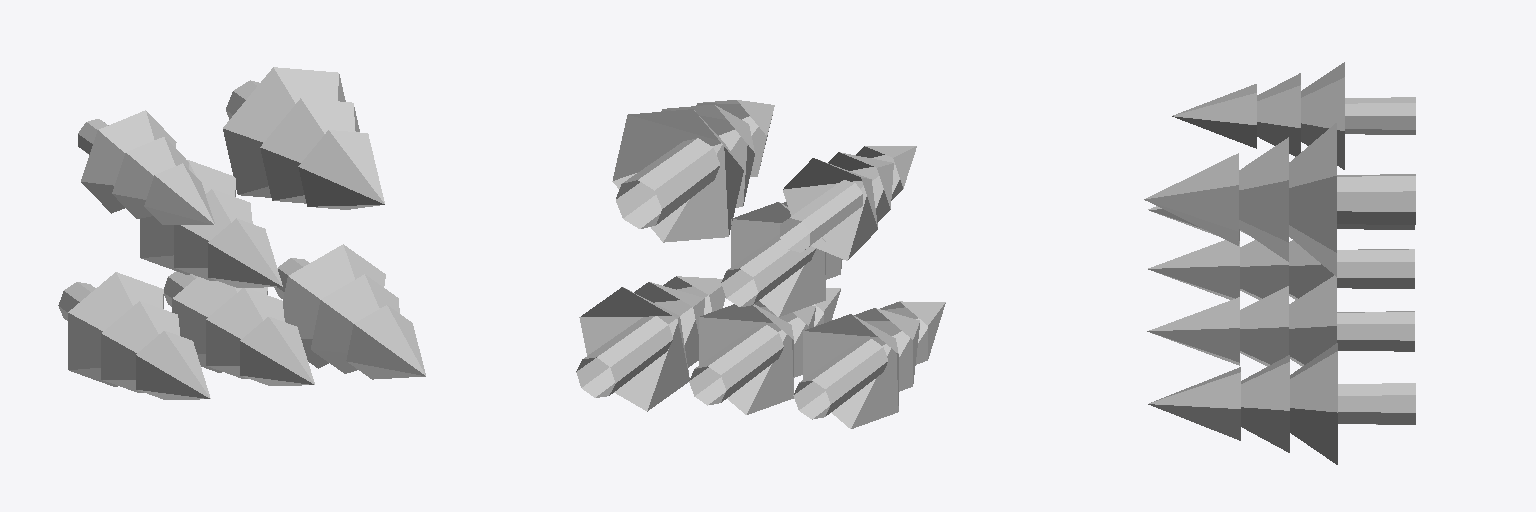
File: forest.obj
3 views of the same model, side by side, from view 1: azimuth 30°, elevation 25°; view 2: azimuth 150°, elevation 25°; view 3: azimuth 270°, elevation 25° (orthographic).
Parts seen in each view (by area): view 1: Cylinder.003, Cylinder.001, Cylinder, Cylinder.004_Cylinder.012, Cylinder.002, Cylinder.012_Cylinder.004; view 2: Cylinder.003, Cylinder.001, Cylinder, Cylinder.004_Cylinder.012, Cylinder.002, Cylinder.012_Cylinder.004; view 3: Cylinder.003, Cylinder.001, Cylinder.004_Cylinder.012, Cylinder.002, Cylinder, Cylinder.012_Cylinder.004.
Part boxes in pixels (bbox=[...]): Cylinder.003: bbox=[223, 67, 384, 209]; Cylinder.001: bbox=[274, 244, 425, 379]; Cylinder: bbox=[58, 272, 210, 399]; Cylinder.004_Cylinder.012: bbox=[164, 271, 314, 385]; Cylinder.002: bbox=[78, 110, 214, 224]; Cylinder.012_Cylinder.004: bbox=[140, 160, 282, 287]; Cylinder.003: bbox=[612, 100, 774, 242]; Cylinder.001: bbox=[576, 276, 725, 411]; Cylinder: bbox=[793, 301, 945, 428]; Cylinder.004_Cylinder.012: bbox=[689, 288, 840, 414]; Cylinder.002: bbox=[780, 146, 916, 260]; Cylinder.012_Cylinder.004: bbox=[721, 202, 842, 316]; Cylinder.003: bbox=[1144, 123, 1415, 276]; Cylinder.001: bbox=[1148, 343, 1415, 464]; Cylinder.004_Cylinder.012: bbox=[1147, 275, 1414, 366]; Cylinder.002: bbox=[1172, 62, 1415, 169]; Cylinder: bbox=[1148, 240, 1414, 299]; Cylinder.012_Cylinder.004: bbox=[1148, 206, 1414, 243].
Size of the model in its own units: 1.09 by 1.02 by 0.8055.